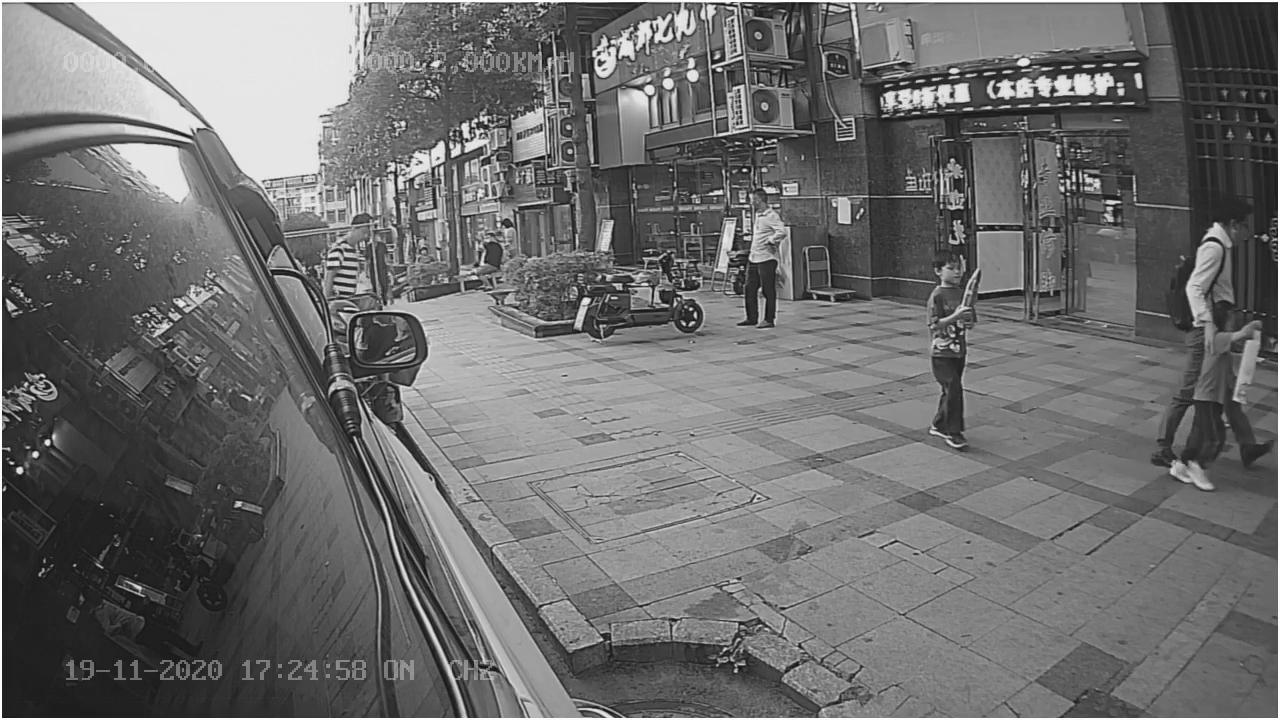person: (918, 242, 988, 454), (1185, 197, 1259, 307)
